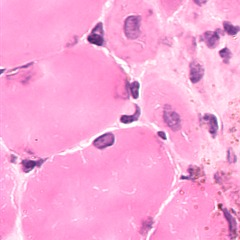New: (141, 74, 201, 164), (103, 1, 163, 65), (173, 44, 213, 93)
